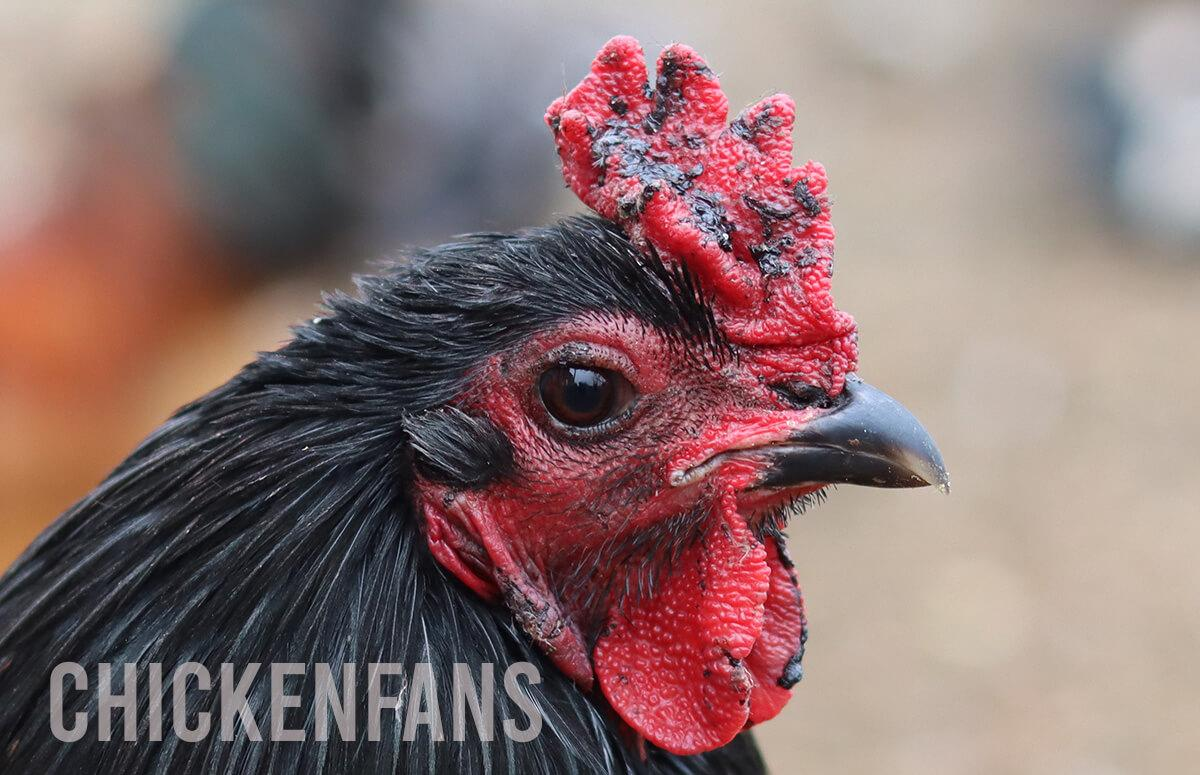AbNormal: (552, 40, 859, 393)
